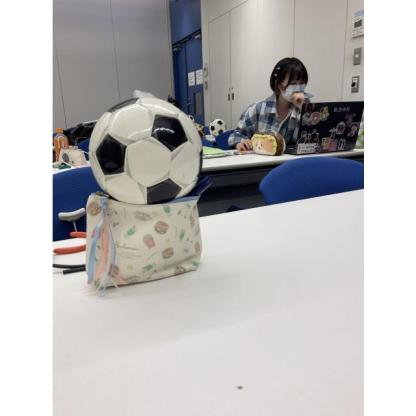ball: (88, 98, 203, 204)
